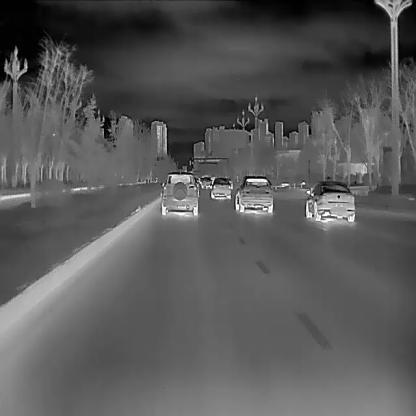car: (305, 180, 355, 221), (160, 172, 198, 215), (234, 174, 273, 212), (211, 177, 230, 199), (202, 176, 212, 188)
